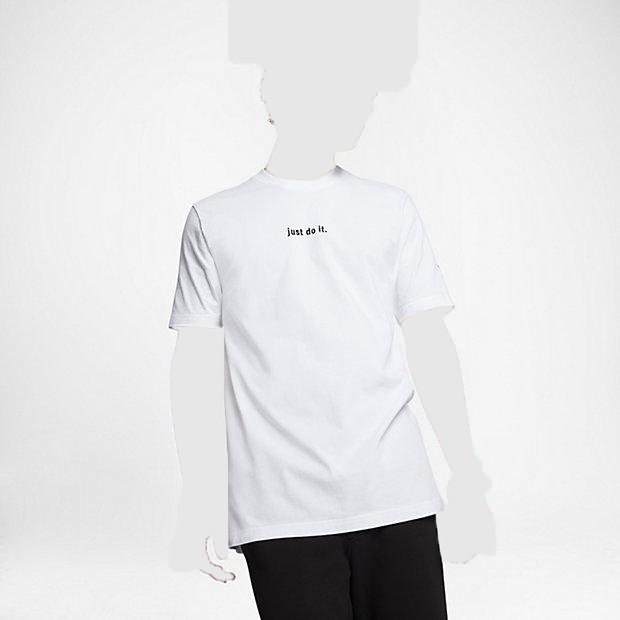teeshirt: (155, 161, 477, 547)
